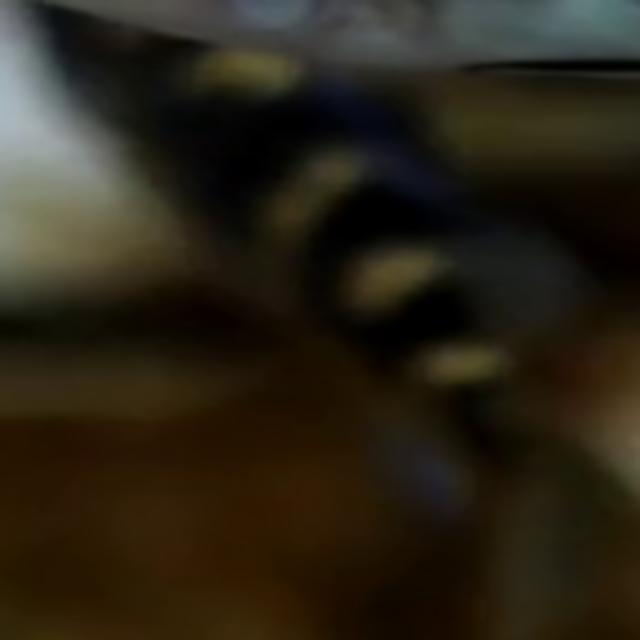fish: (4, 2, 640, 640)
